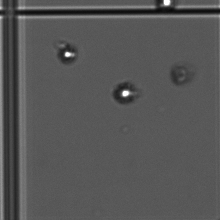Dead Cell: (170, 62, 194, 86)
Living Cell: (59, 46, 77, 64), (156, 1, 180, 14), (117, 86, 136, 101)
